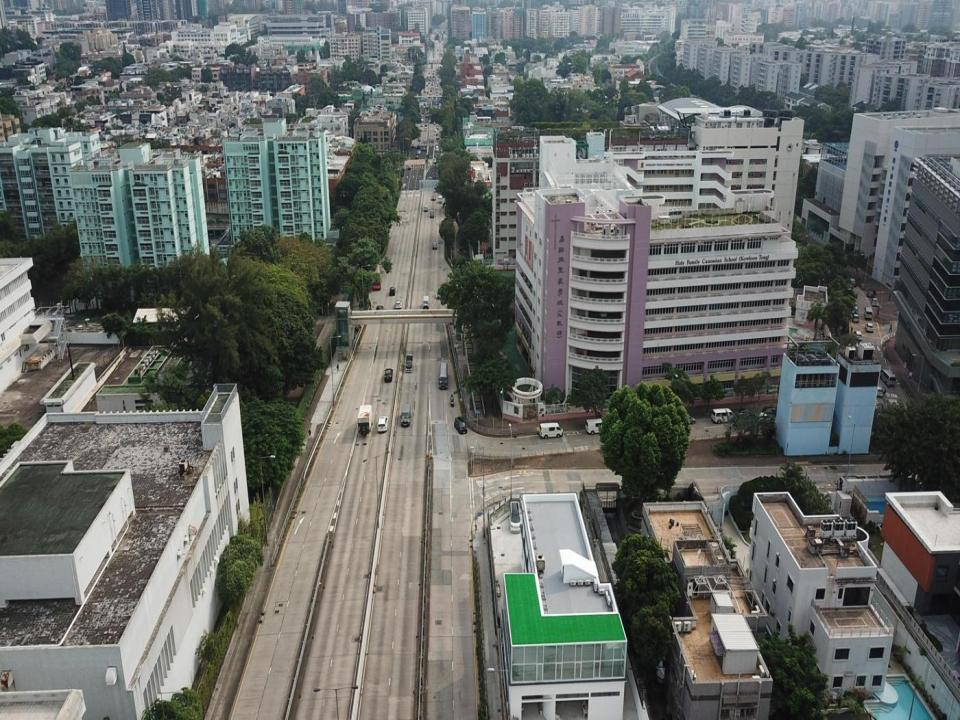bus: (371, 260, 381, 290), (440, 363, 449, 391)
car: (454, 416, 467, 434), (376, 414, 387, 433), (384, 366, 393, 382), (375, 304, 383, 316), (388, 286, 396, 295), (395, 299, 401, 309), (431, 242, 437, 250), (430, 210, 435, 218), (431, 193, 436, 201), (408, 164, 412, 171), (423, 205, 427, 211), (433, 157, 436, 165)
truck: (356, 402, 374, 435)
van: (762, 405, 787, 424), (711, 407, 737, 424), (540, 422, 564, 439), (586, 418, 610, 434), (735, 408, 758, 421), (400, 403, 411, 427), (404, 352, 412, 372), (422, 295, 430, 309)
